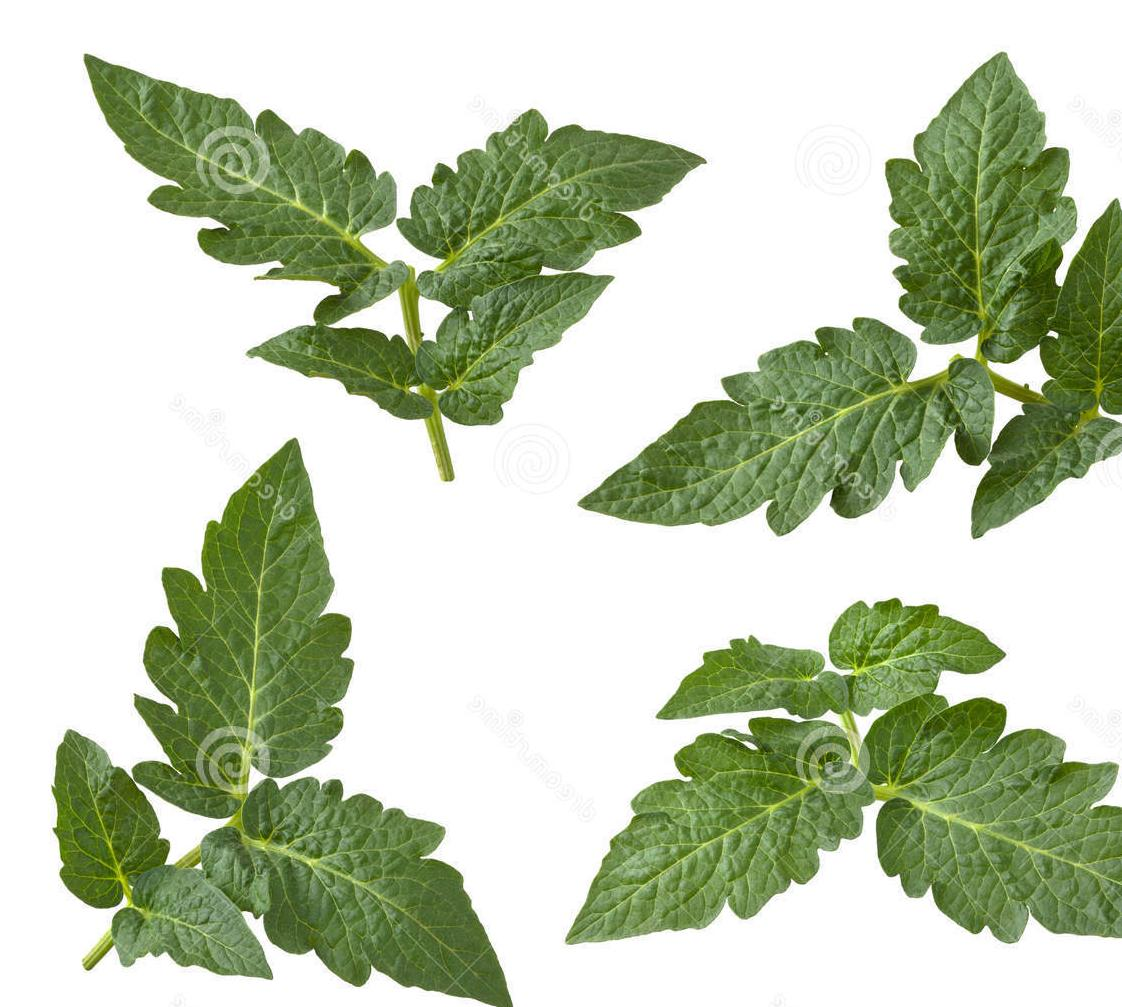Tomato leaf: (546, 308, 978, 569), (109, 424, 358, 849), (26, 32, 402, 308), (531, 705, 858, 973), (859, 673, 1122, 993), (856, 25, 1100, 356), (402, 90, 738, 315)
